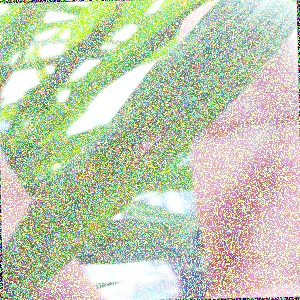Brown_Spot: (61, 153, 111, 199), (130, 116, 174, 167)
